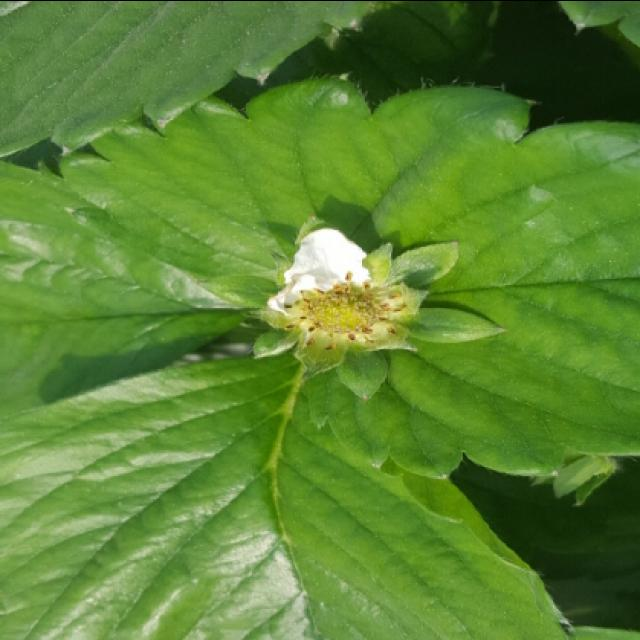Blossom Blight: (278, 269, 420, 355)
